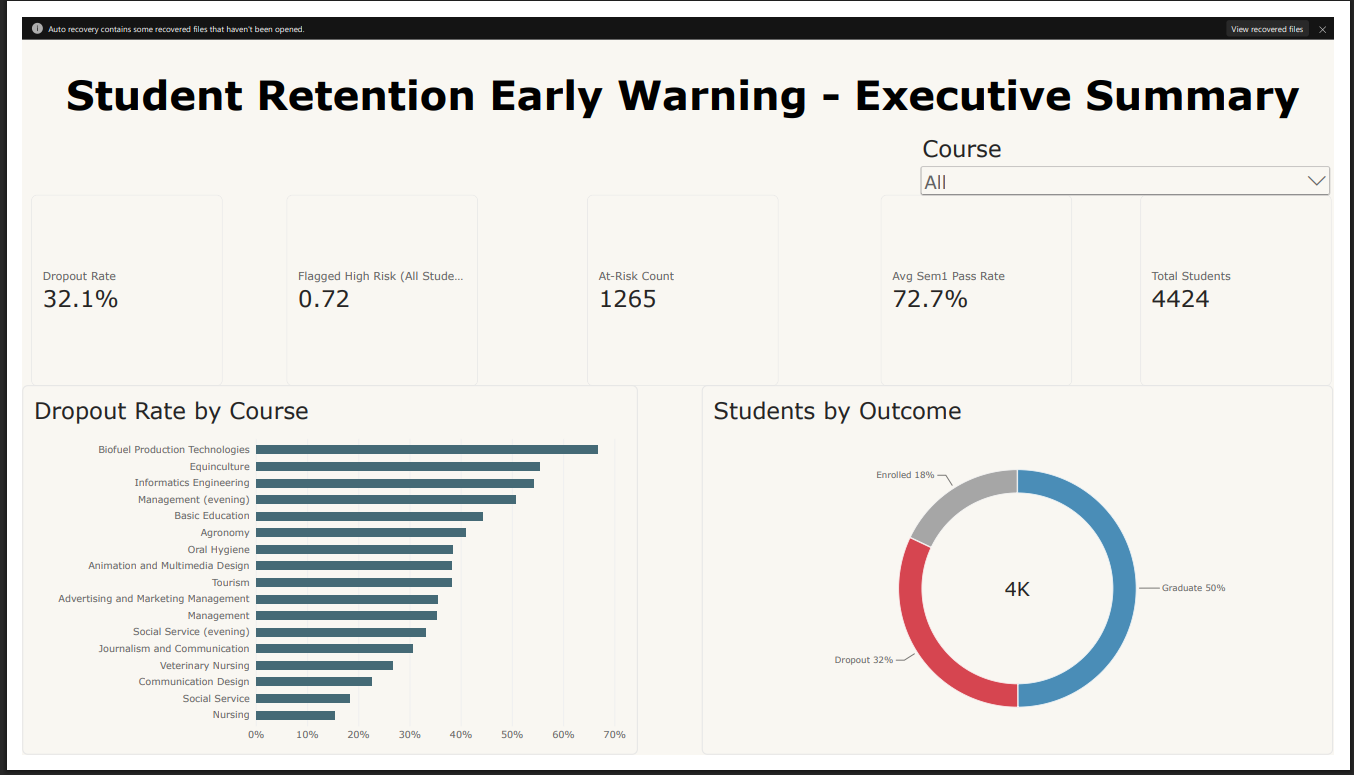

Layout of this report page (visuals, bound fields, positions):
{"tool":"powerbi","page":{"name":"Executive Summary","canvas":[1920,1080],"ordinal":0},"visuals":[{"type":"cardVisual","fields":{"Data":["Measures (2).Dropout Rate"]},"box":[13.3,260,280,280],"z":0},{"type":"cardVisual","fields":{"Data":["Measures (2).Avg Sem1 Pass Rate"]},"box":[1256.7,260,280,280],"z":1000},{"type":"cardVisual","fields":{"Data":["Measures (2).At-Risk Count"]},"box":[826.7,260,280,280],"z":2000},{"type":"cardVisual","fields":{"Data":["Measures (2).Total Students"]},"box":[1636.7,260,280.6,280.6],"z":3000},{"type":"cardVisual","fields":{"Data":["Measures (2).High Risk Recall Coverage"]},"box":[386.7,260,280,280],"z":4000},{"type":"textbox","box":[14.6,75.6,1905.5,92.7],"z":5000},{"type":"clusteredBarChart","title":"Dropout Rate by Course","fields":{"Category":["students_scored.course_name"],"Y":["Measures (2).Dropout Rate"]},"box":[0,538.6,901.4,541.4],"z":6000},{"type":"donutChart","title":"Students by Outcome","fields":{"Category":["students_scored.target"],"Y":["Measures (2).Total Students"]},"box":[995,538.6,924.1,541.4],"z":7000},{"type":"slicer","fields":{"Values":["students_scored.course_name"]},"box":[1310,170,610,116.7],"z":8000}]}

Visuals, with their boxes on the page's 1920x1080 design canvas (x1, y1, x2, y2). These are canvas units, not pixel positions in the 1354x775 screenshot, which may show the page scaled, cropped or inside an application window:
cardVisual - Measures (2).Dropout Rate: (x1=13, y1=260, x2=293, y2=540)
cardVisual - Measures (2).Avg Sem1 Pass Rate: (x1=1257, y1=260, x2=1537, y2=540)
cardVisual - Measures (2).At-Risk Count: (x1=827, y1=260, x2=1107, y2=540)
cardVisual - Measures (2).Total Students: (x1=1637, y1=260, x2=1917, y2=541)
cardVisual - Measures (2).High Risk Recall Coverage: (x1=387, y1=260, x2=667, y2=540)
textbox: (x1=15, y1=76, x2=1920, y2=168)
"Dropout Rate by Course" clusteredBarChart: (x1=0, y1=539, x2=901, y2=1080)
"Students by Outcome" donutChart: (x1=995, y1=539, x2=1919, y2=1080)
slicer - students_scored.course_name: (x1=1310, y1=170, x2=1920, y2=287)
